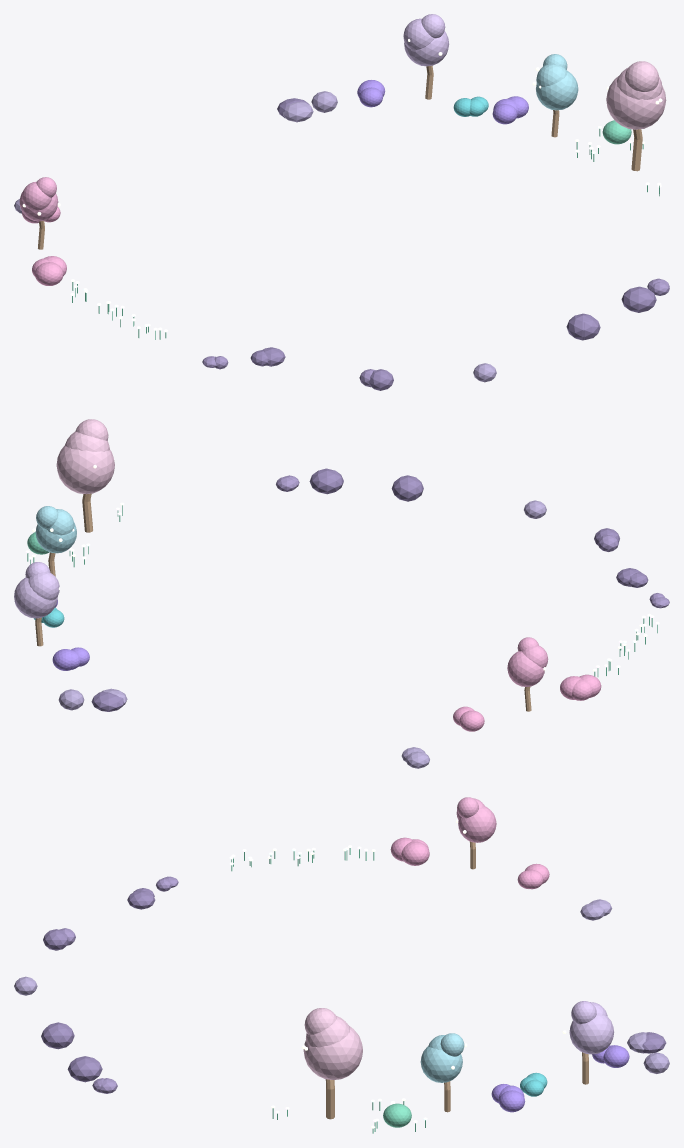
File: party-garden.glb
3 renders of one model, top to bottom at view 1: azimuth 30°, elevation 25°; view 2: azimuth 150°, elevation 25°; view 3: azimuth 270°, elevation 25°, orthographic. The views are drawn at different scales.
Visible parts, largest first — view 1: party-garden_3, party-garden_15, party-garden_1, party-garden_5, party-garden_7, party-garden_17, party-garden_4, party-garden_9, party-garden_0, party-garden_16, party-garden_8; view 2: party-garden_3, party-garden_15, party-garden_1, party-garden_5, party-garden_4, party-garden_9, party-garden_17, party-garden_0, party-garden_16, party-garden_7; view 3: party-garden_3, party-garden_15, party-garden_1, party-garden_5, party-garden_17, party-garden_9, party-garden_4, party-garden_7, party-garden_0, party-garden_16, party-garden_6, party-garden_8.
Part boxes in pixels (box(x1,y1,x2,y2)): party-garden_3: box(606, 61, 666, 129); party-garden_15: box(250, 98, 656, 390); party-garden_1: box(403, 14, 449, 66); party-garden_5: box(536, 54, 578, 110); party-garden_7: box(357, 80, 528, 124); party-garden_17: box(14, 91, 496, 382); party-garden_4: box(19, 177, 58, 221); party-garden_9: box(22, 206, 66, 285); party-garden_0: box(38, 65, 642, 249); party-garden_16: box(202, 278, 669, 387); party-garden_8: box(453, 96, 488, 116); party-garden_3: box(56, 419, 114, 494); party-garden_15: box(91, 468, 648, 711); party-garden_1: box(14, 562, 59, 618); party-garden_5: box(35, 506, 76, 553); party-garden_4: box(507, 637, 548, 686); party-garden_9: box(453, 674, 601, 731); party-garden_17: box(58, 500, 546, 768); party-garden_0: box(35, 493, 531, 711); party-garden_16: box(276, 475, 669, 608); party-garden_7: box(14, 600, 89, 670); party-garden_3: box(303, 1008, 362, 1079); party-garden_15: box(41, 888, 666, 1082); party-garden_1: box(569, 1001, 614, 1054); party-garden_5: box(420, 1033, 464, 1082); party-garden_17: box(14, 899, 669, 1073); party-garden_9: box(390, 837, 549, 889); party-garden_4: box(456, 797, 496, 842); party-garden_7: box(491, 1045, 629, 1112); party-garden_0: box(325, 841, 588, 1119); party-garden_16: box(59, 876, 178, 1093); party-garden_6: box(383, 1103, 411, 1127); party-garden_8: box(520, 1072, 547, 1096).
Size of the model in its own units: 27.42 by 6.07 by 26.52.
